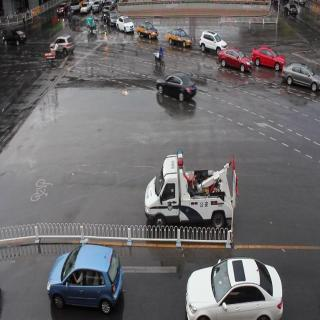Car: (142, 154, 239, 229), (45, 240, 126, 319), (184, 258, 285, 320), (154, 66, 199, 109), (215, 42, 251, 77), (282, 61, 320, 93), (167, 20, 198, 53), (252, 44, 282, 73), (48, 29, 76, 56), (199, 27, 226, 52), (3, 21, 27, 47), (138, 17, 160, 41), (116, 12, 134, 37)
